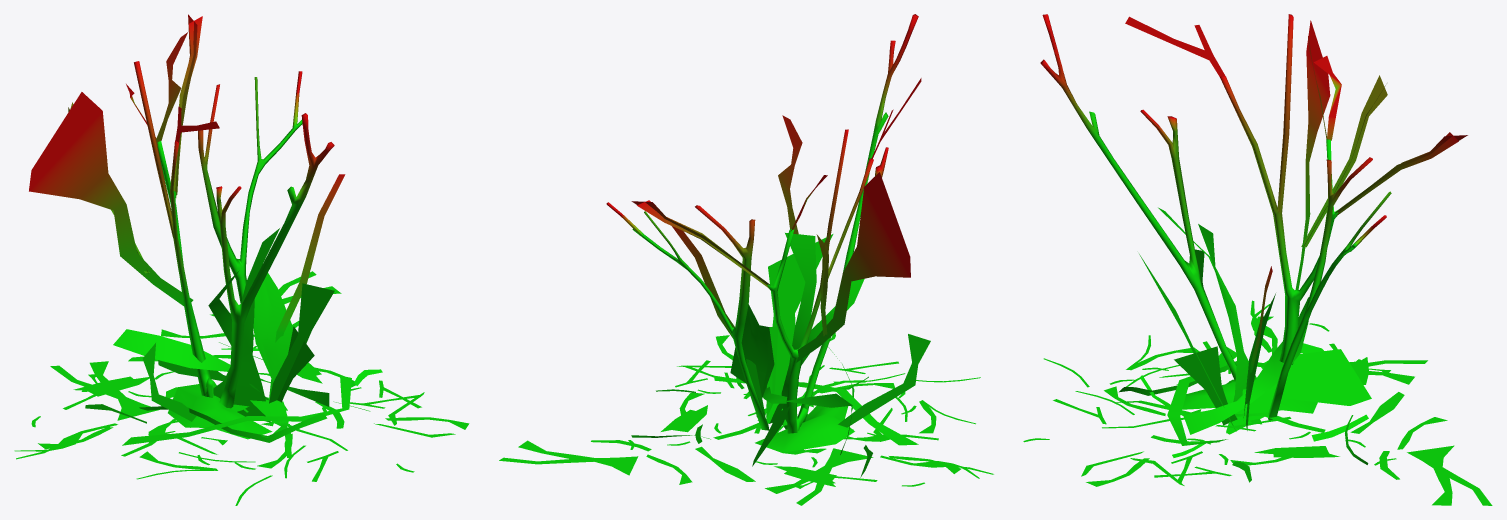
File: Dead Shrubs_LOD0_Var2_vdknbbuha.fbx
3 renders of one model, left to right at view 1: azimuth 30°, elevation 25°; view 2: azimuth 150°, elevation 25°; view 3: azimuth 270°, elevation 25°, orthographic. The views are drawn at different scales.
Parts seen in each view (by area): view 1: _z2pz_Var2_LOD0; view 2: _z2pz_Var2_LOD0; view 3: _z2pz_Var2_LOD0.
Boxes of the visible parts, x1=… form: _z2pz_Var2_LOD0: x1=14, y1=14, x2=469, y2=505; _z2pz_Var2_LOD0: x1=499, y1=14, x2=993, y2=505; _z2pz_Var2_LOD0: x1=1023, y1=14, x2=1492, y2=505.
Bounding box in the file's own units: 49.56 × 44.19 × 47.86.
